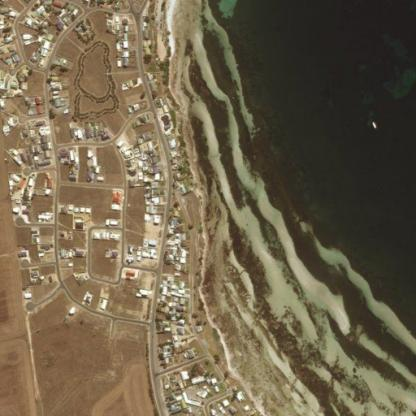ship: (366, 116, 380, 134)
